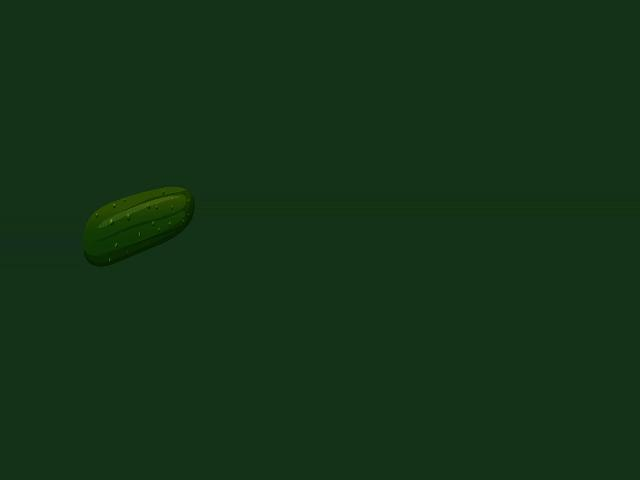cucumber: (82, 187, 194, 267)
